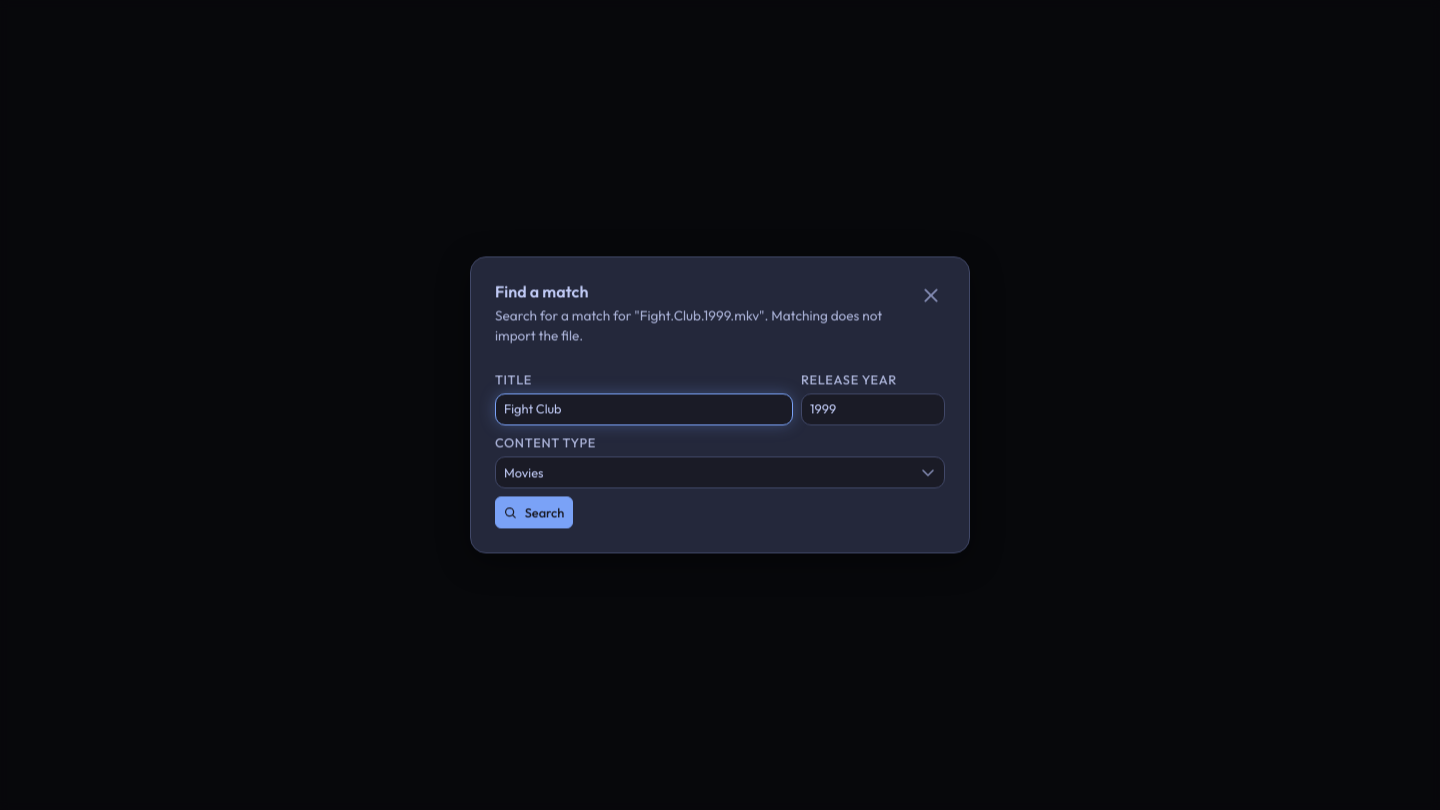
it: ManualMatchDialog › surfaces parse details returned by candidate search
The width and height of the screenshot is (1440, 810).
Click the button "Search": {"x": 534, "y": 513} [495,497,573,529]
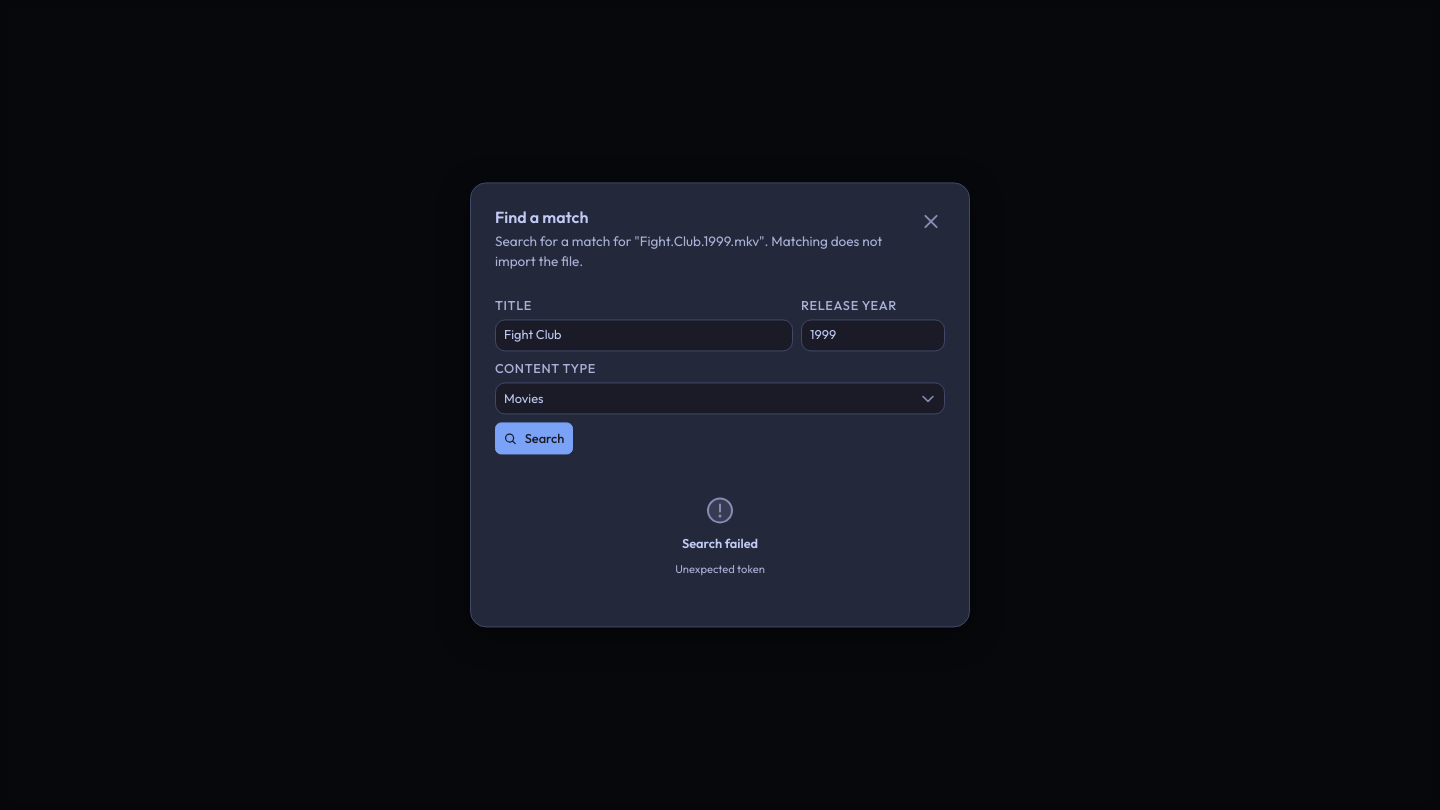
Now the element with test id "manual-match-dialog__error" shows "Unexpected token", box [675,563,765,577]
